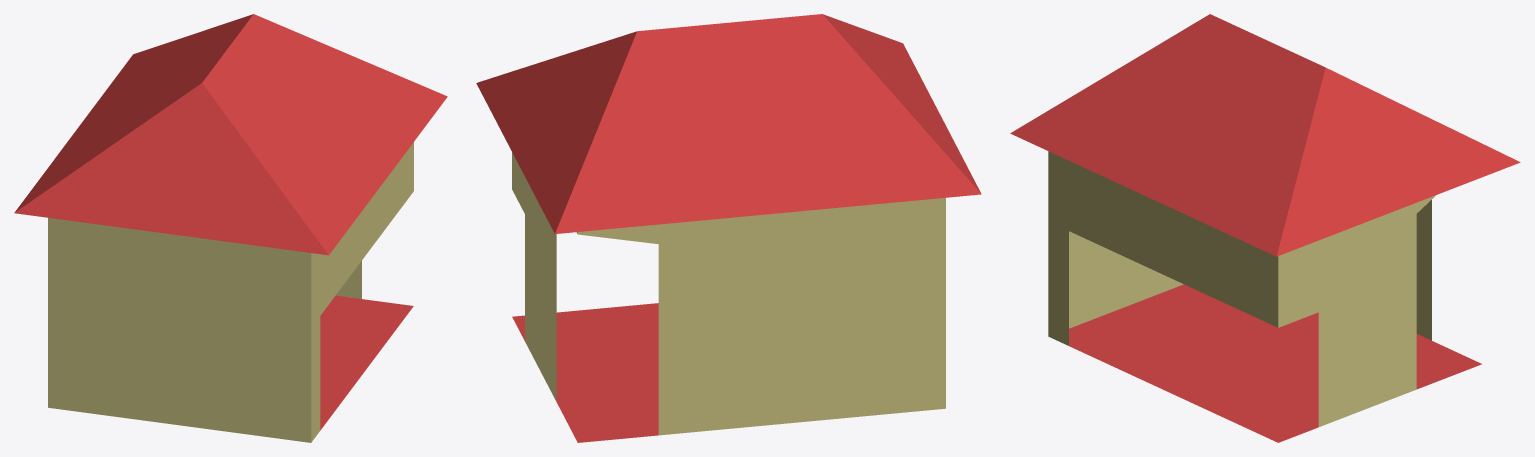
3 renders of one model, left to right at view 1: azimuth 30°, elevation 25°; view 2: azimuth 150°, elevation 25°; view 3: azimuth 270°, elevation 25°, orthographic. The views are drawn at different scales.
Visible parts, largest first — view 1: group_5, group_3, group_4, group_6; view 2: group_5, group_3, group_4, group_6; view 3: group_3, group_5, group_6, group_4.
Part boxes in pixels (box(x1,y1,x2,y2)): group_5: box(48, 142, 413, 442); group_3: box(14, 14, 447, 254); group_4: box(14, 45, 447, 255); group_6: box(320, 295, 413, 430); group_5: box(512, 152, 945, 435); group_3: box(515, 14, 980, 233); group_4: box(476, 36, 981, 233); group_6: box(512, 303, 658, 442); group_3: box(1010, 14, 1519, 256); group_5: box(1048, 151, 1435, 426); group_6: box(1069, 284, 1481, 442); group_4: box(1011, 105, 1520, 256).
Size of the model in its own units: 18.93 by 18.78 by 12.52.
